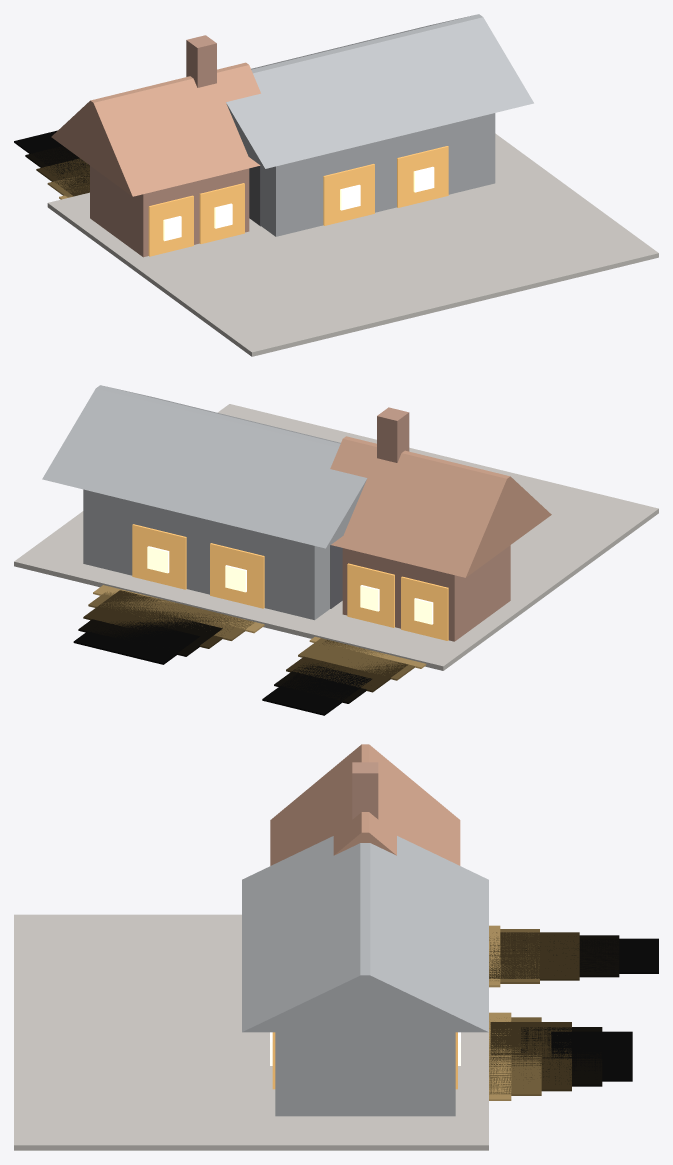
File: plc_yard.glb
3 views of the same model, one above another, from view 1: azimuth 30°, elevation 25°; view 2: azimuth 150°, elevation 25°; view 3: azimuth 270°, elevation 25° (orthographic). The views are drawn at different scales.
Visible parts, largest first — view 1: plc_yard; view 2: plc_yard; view 3: plc_yard.
Part boxes in pixels (<box>): plc_yard: <box>14,14,658,356</box>; plc_yard: <box>14,385,658,715</box>; plc_yard: <box>14,744,658,1150</box>.
Bounding box in the file's own units: 2 × 0.8262 × 2.31.
